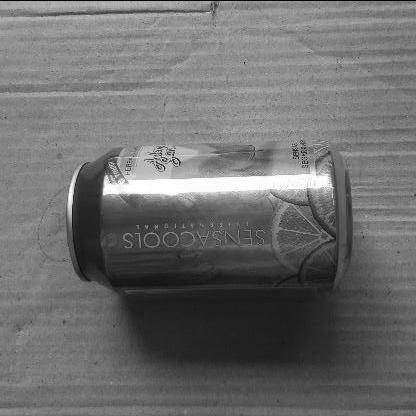alumunium_can: (45, 132, 360, 313)
